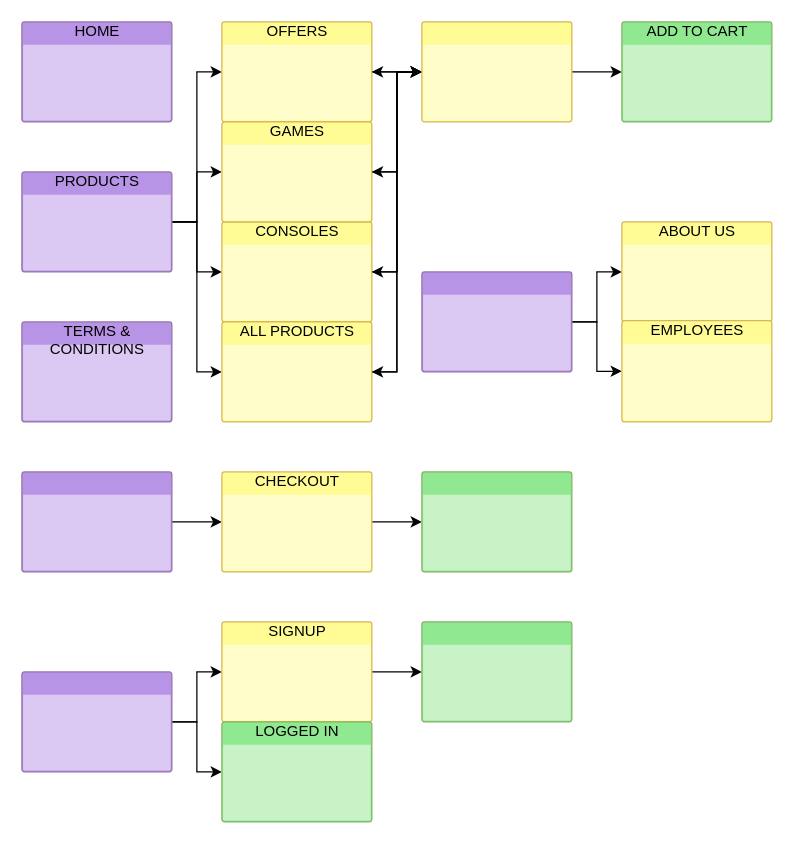
This 794x844 diagram has some shape labels left out. Each missing label, with the centre of its shape:
"ABOUT" goes at (x=496, y=321).
"ACCOUNT CREATED" goes at (x=496, y=671).
"CART" goes at (x=96, y=521).
"LOGIN" goes at (x=96, y=721).
"PAY" goes at (x=496, y=521).
"PRODUCT" goes at (x=496, y=71).
